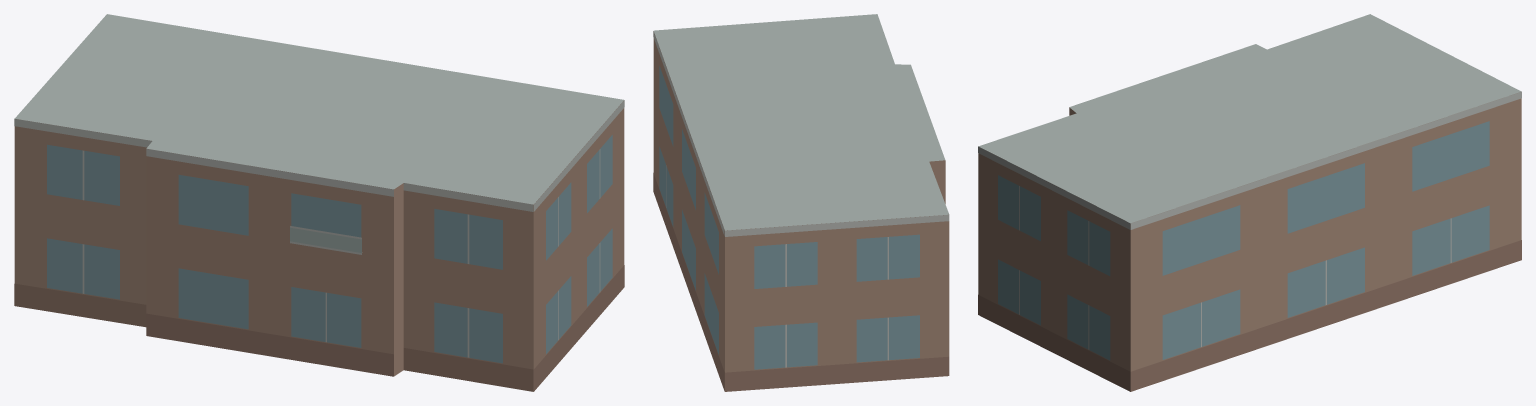
File: survey-upis-32945736.glb
The picture shows the model from 3 angles, left to right: view 1: azimuth 30°, elevation 25°; view 2: azimuth 150°, elevation 25°; view 3: azimuth 270°, elevation 25°; orthographic projection. The views are drawn at different scales.
Visible parts, largest first — view 1: survey-upis-32945736.tmp; view 2: survey-upis-32945736.tmp; view 3: survey-upis-32945736.tmp.
Part boxes in pixels (left/top/right/bottom): survey-upis-32945736.tmp: left=14, top=14, right=624, bottom=391; survey-upis-32945736.tmp: left=653, top=14, right=949, bottom=391; survey-upis-32945736.tmp: left=978, top=14, right=1521, bottom=391.
Bounding box in the file's own units: 16.26 × 6.1 × 17.84.
